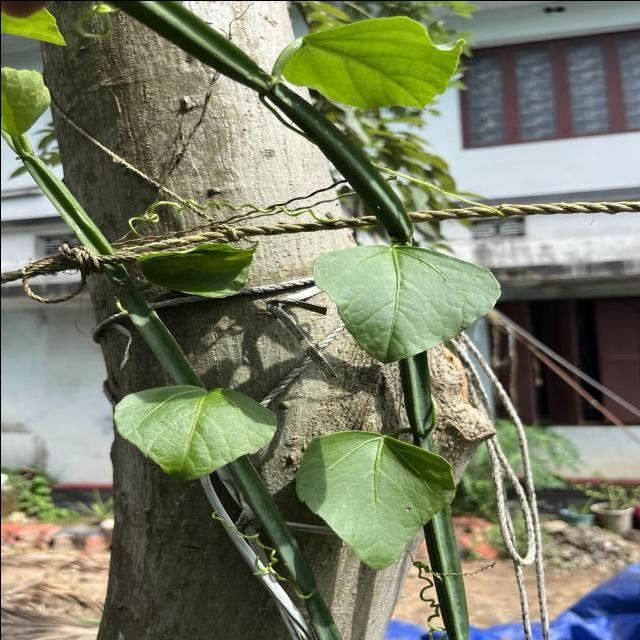Cissus quadrangularis: (306, 241, 504, 366), (292, 427, 458, 573), (110, 379, 280, 487)
